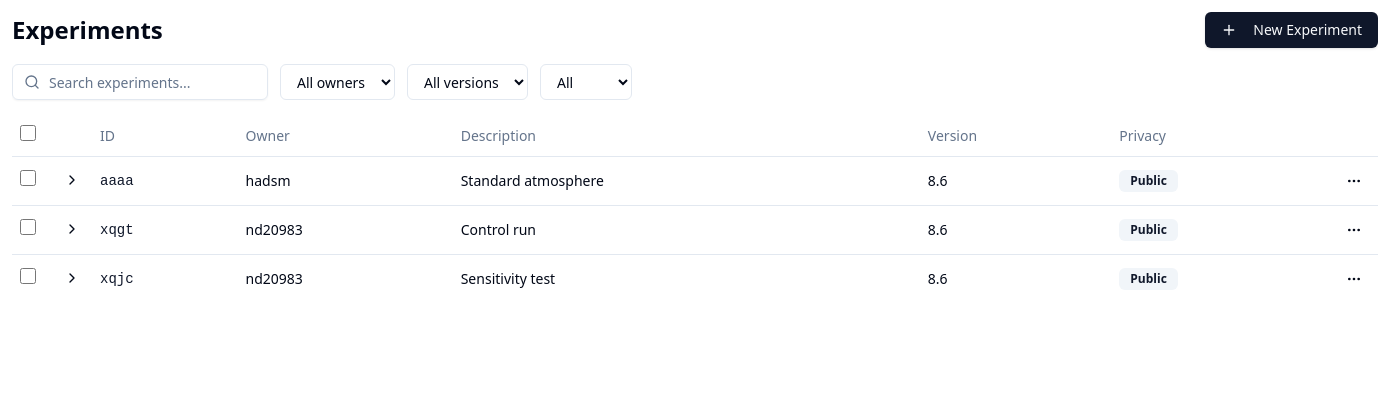
Scenario: ExplorerPage › expands experiment to show jobs
Step 1. Click the button named "Expand aaaa" → (72,180), box [60, 168, 84, 192]
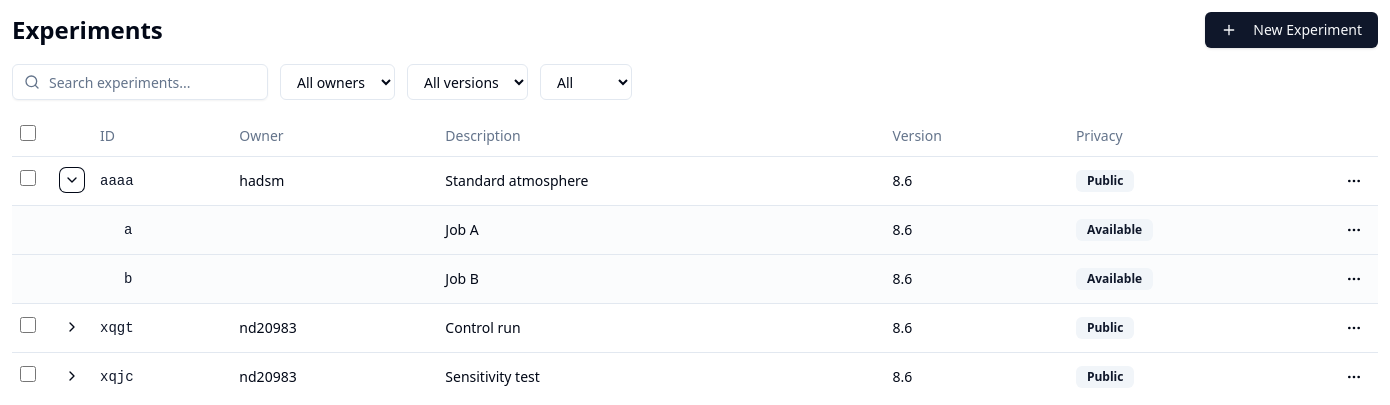
Result: the text "Job A" is shown at [437, 205, 885, 254]
